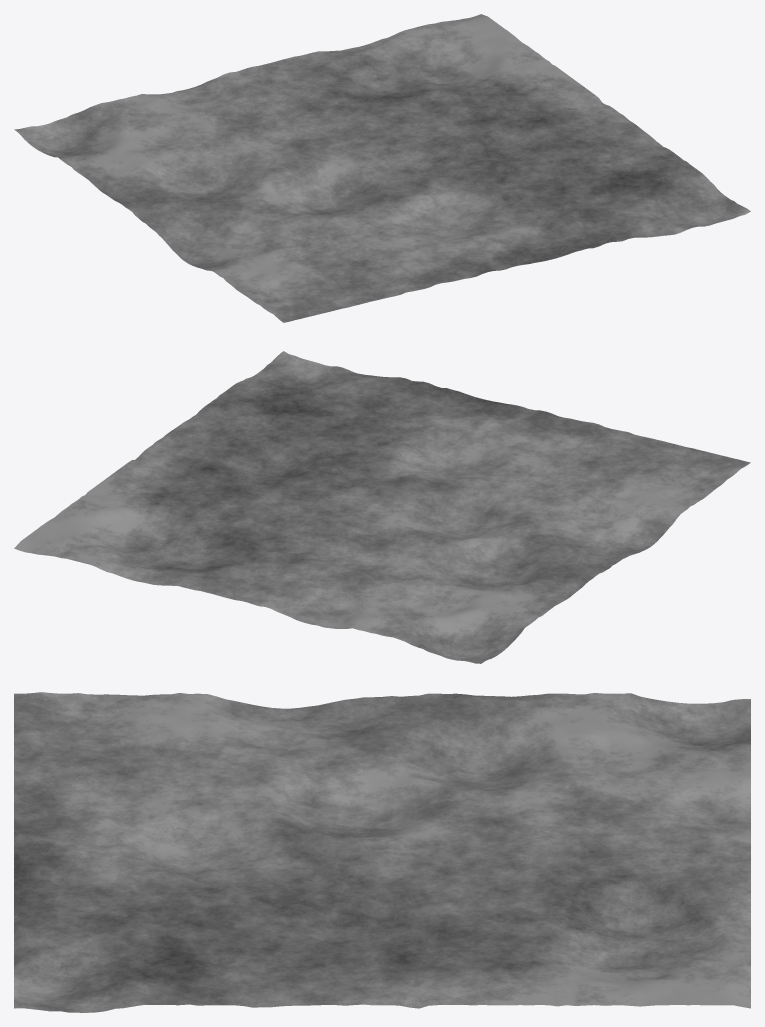
The model's file is moon.obj.
3 renders of one model, top to bottom at view 1: azimuth 30°, elevation 25°; view 2: azimuth 150°, elevation 25°; view 3: azimuth 270°, elevation 25°, orthographic. The views are drawn at different scales.
Parts seen in each view (by area): view 1: Terrain.001; view 2: Terrain.001; view 3: Terrain.001.
Part boxes in pixels (box(x1,y1,x2,y2)): Terrain.001: box(14, 14, 750, 322); Terrain.001: box(14, 351, 750, 663); Terrain.001: box(14, 692, 750, 1012).
Size of the model in its own units: 200 by 6.59 by 200.
Materials: 1 (1 with a texture image).
